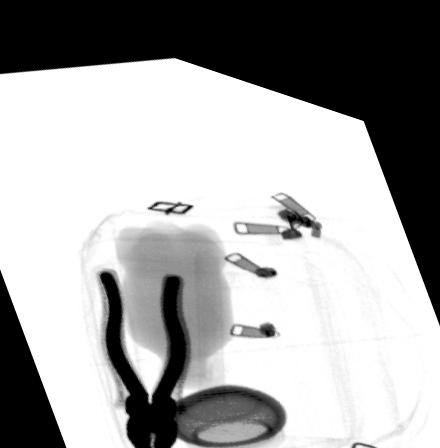Pliers: (93, 260, 194, 448)
